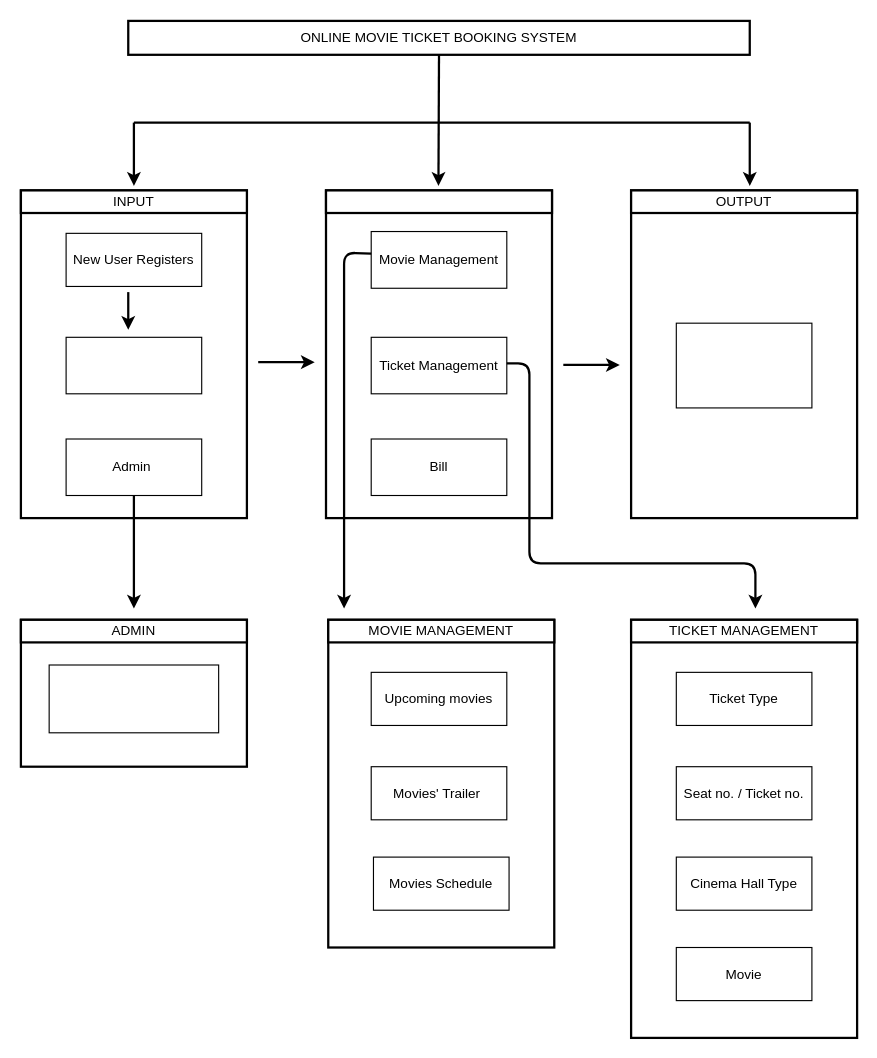
The diagram is 877 pixels wide and 1058 high, and some of its shapes have lost their labels. The shapes that lost their labels are listed below. From the top down, each one's centre as x and y in pixels, then its label:
At (x=438, y=201): "PROCESS".
At (x=133, y=365): "Old user can directly Login or register with another ID".
At (x=743, y=365): "Bill generated on user's screen of successful ticket booking".
At (x=133, y=698): "Can makes changes in the system from back-end".
